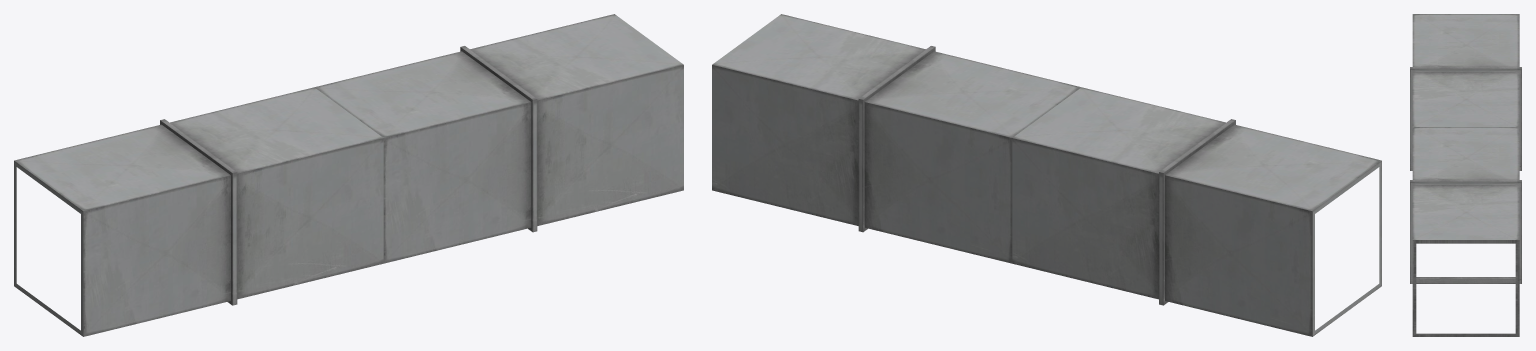
Rendered from SM_Vent_Duct_8th_01.glb.
3 renders of one model, left to right at view 1: azimuth 30°, elevation 25°; view 2: azimuth 150°, elevation 25°; view 3: azimuth 270°, elevation 25°, orthographic. The views are drawn at different scales.
Visible parts, largest first — view 1: SM_Vent_Duct_8th_01; view 2: SM_Vent_Duct_8th_01; view 3: SM_Vent_Duct_8th_01.
Boxes of the visible parts, x1,y1,x2,y2 form: SM_Vent_Duct_8th_01: (14, 14, 683, 336); SM_Vent_Duct_8th_01: (712, 14, 1381, 336); SM_Vent_Duct_8th_01: (1410, 14, 1521, 336).
Size of the model in its own units: 2 by 0.4216 by 0.4178.
1 material, 1 textured.
